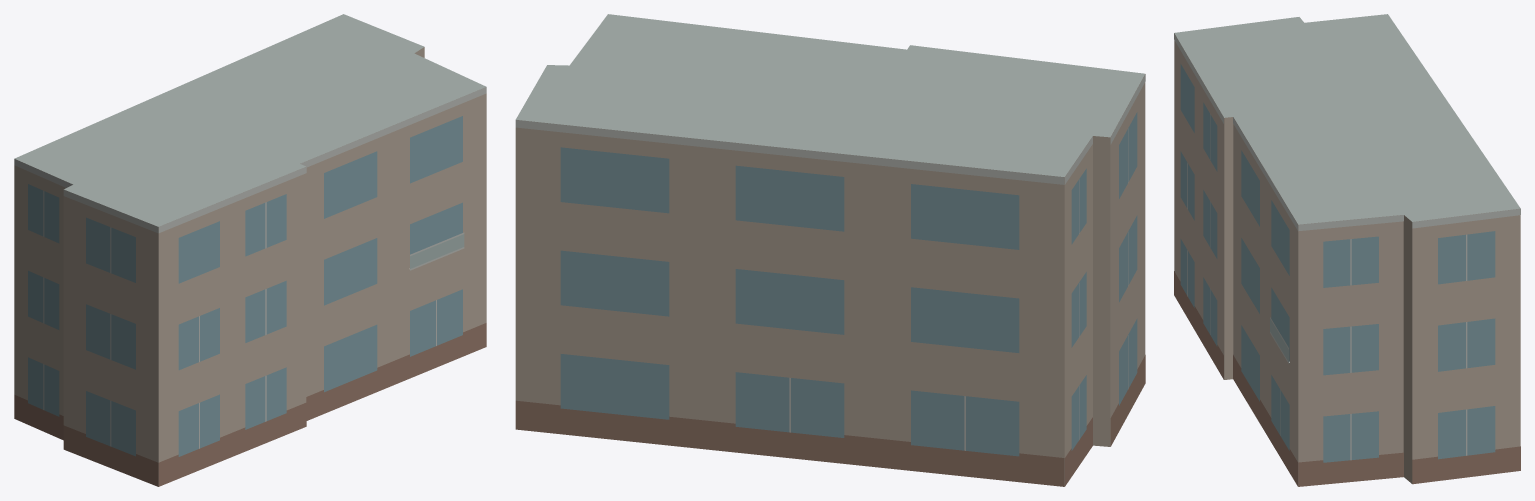
Rendered from survey-upis-32541353.glb.
The picture shows the model from 3 angles, left to right: view 1: azimuth 30°, elevation 25°; view 2: azimuth 150°, elevation 25°; view 3: azimuth 270°, elevation 25°; orthographic projection. The views are drawn at different scales.
Visible parts, largest first — view 1: survey-upis-32541353.tmp; view 2: survey-upis-32541353.tmp; view 3: survey-upis-32541353.tmp.
Boxes of the visible parts, x1,y1,x2,y2 form: survey-upis-32541353.tmp: [14, 14, 486, 486]; survey-upis-32541353.tmp: [515, 14, 1145, 486]; survey-upis-32541353.tmp: [1174, 14, 1520, 486].
Size of the model in its own units: 16.72 by 9.7 by 11.63.
